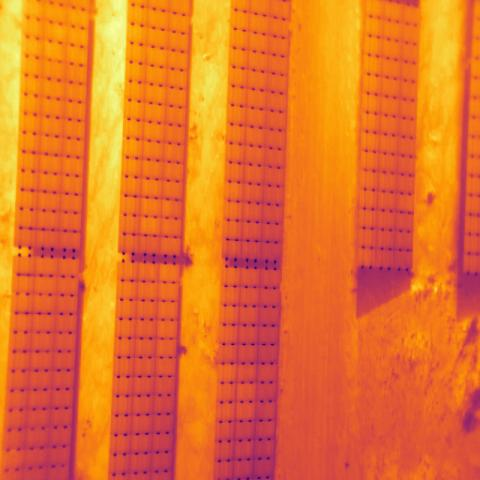fault: (140, 216, 162, 237)
